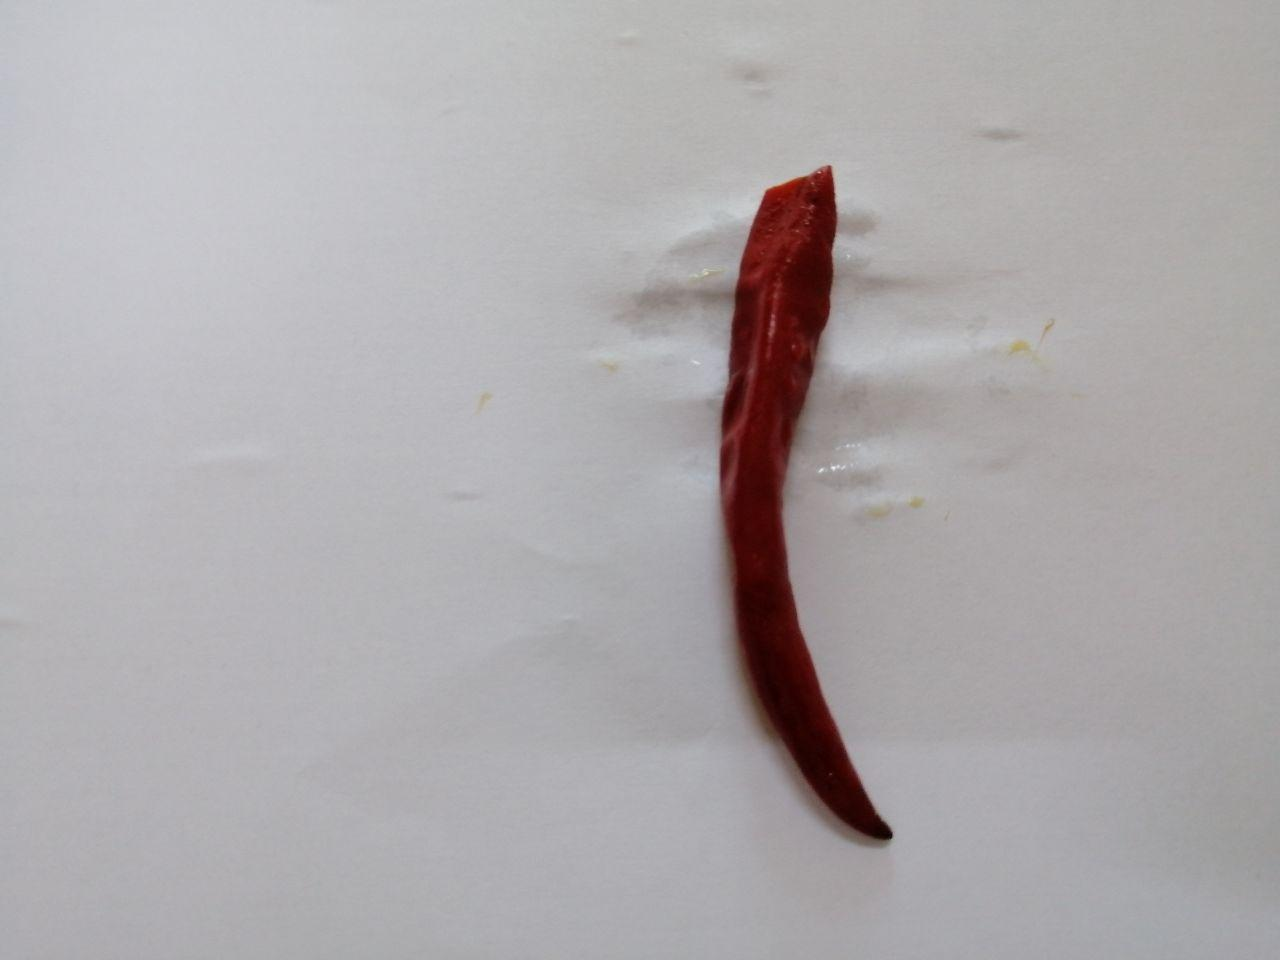lada merah: (702, 143, 931, 864)
